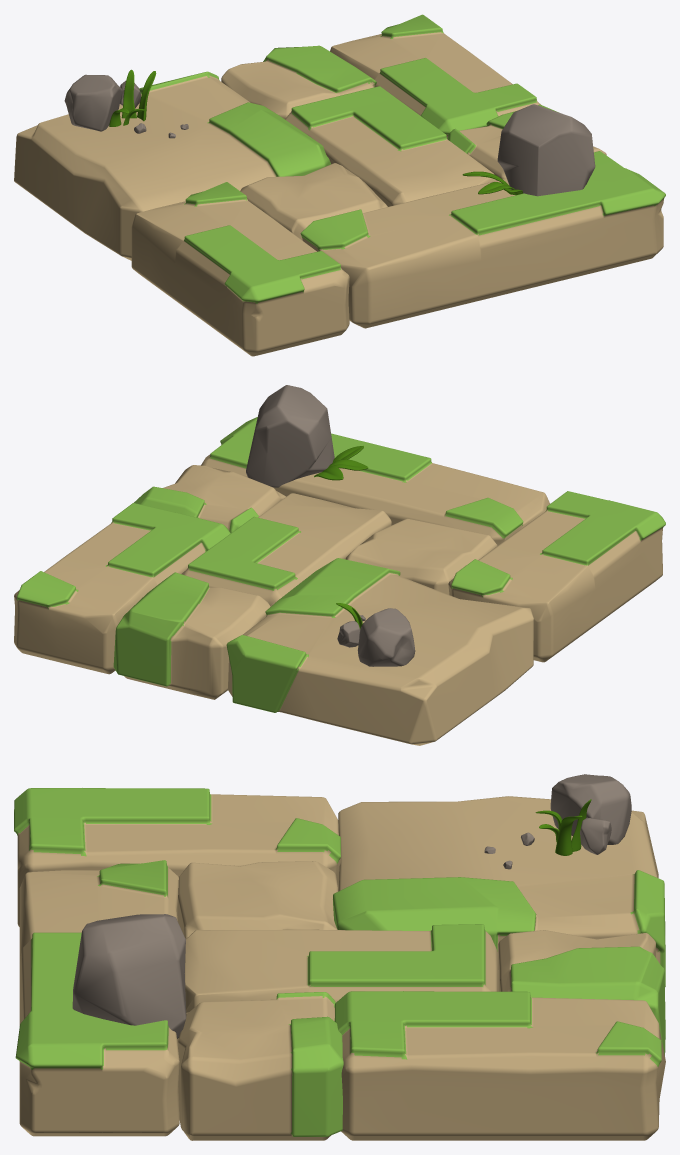
The model's file is Tile_Default_02.fbx.
The picture shows the model from 3 angles, top to bottom: view 1: azimuth 30°, elevation 25°; view 2: azimuth 150°, elevation 25°; view 3: azimuth 270°, elevation 25°; orthographic projection. The views are drawn at different scales.
Visible parts, largest first — view 1: Cube.010, Cube.011, Cube.001, Cube.016, Cube.015, Cube.031, Cube.013, Cube.014, Cube.024, Cube.012; view 2: Cube.011, Cube.001, Cube.015, Cube.010, Cube.013, Cube.016, Cube.031, Cube.014, Cube.012, Cube.024; view 3: Cube.015, Cube.011, Cube.010, Cube.001, Cube.012, Cube.016, Cube.031, Cube.013, Cube.014, Cube.024, Cube.023, Cube.
Part boxes in pixels (left/top/right/bottom): Cube.010: left=300, top=151, right=665, bottom=328; Cube.011: left=14, top=71, right=330, bottom=260; Cube.001: left=131, top=182, right=349, bottom=356; Cube.016: left=285, top=86, right=496, bottom=206; Cube.015: left=330, top=14, right=540, bottom=138; Cube.031: left=497, top=104, right=595, bottom=196; Cube.013: left=221, top=45, right=376, bottom=119; Cube.014: left=240, top=163, right=387, bottom=240; Cube.024: left=64, top=74, right=122, bottom=131; Cube.012: left=447, top=104, right=606, bottom=180; Cube.011: left=226, top=558, right=533, bottom=745; Cube.001: left=448, top=491, right=665, bottom=662; Cube.015: left=14, top=503, right=230, bottom=674; Cube.010: left=201, top=417, right=549, bottom=545; Cube.013: left=113, top=572, right=270, bottom=699; Cube.016: left=181, top=493, right=391, bottom=606; Cube.031: left=246, top=385, right=334, bottom=487; Cube.014: left=345, top=518, right=497, bottom=594; Cube.012: left=134, top=465, right=285, bottom=532; Cube.024: left=357, top=608, right=415, bottom=666; Cube.015: left=334, top=991, right=665, bottom=1140; Cube.011: left=333, top=796, right=665, bottom=991; Cube.010: left=15, top=860, right=179, bottom=1136; Cube.001: left=14, top=788, right=341, bottom=926; Cube.012: left=178, top=992, right=343, bottom=1140; Cube.016: left=184, top=924, right=497, bottom=1012; Cube.031: left=72, top=914, right=186, bottom=1038; Cube.013: left=498, top=930, right=665, bottom=1055; Cube.014: left=178, top=861, right=338, bottom=938; Cube.024: left=550, top=774, right=631, bottom=844; Cube.023: left=580, top=817, right=611, bottom=854; Cube: left=555, top=815, right=582, bottom=855.
Bounding box in the file's own units: 203 × 60.96 × 203.
